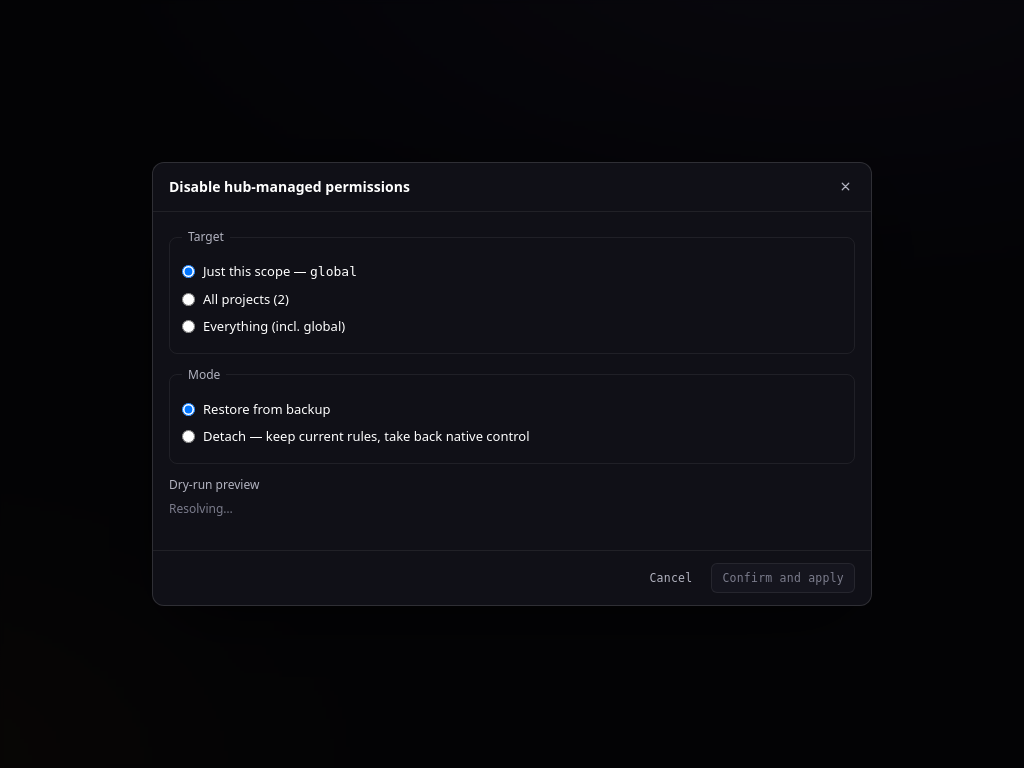
Test: DisableDialog › requires the strict checkbox when target = Everything
Step 1. Click the radio button labelled "Everything (incl. global)" → (188, 327), box [182,320,195,333]
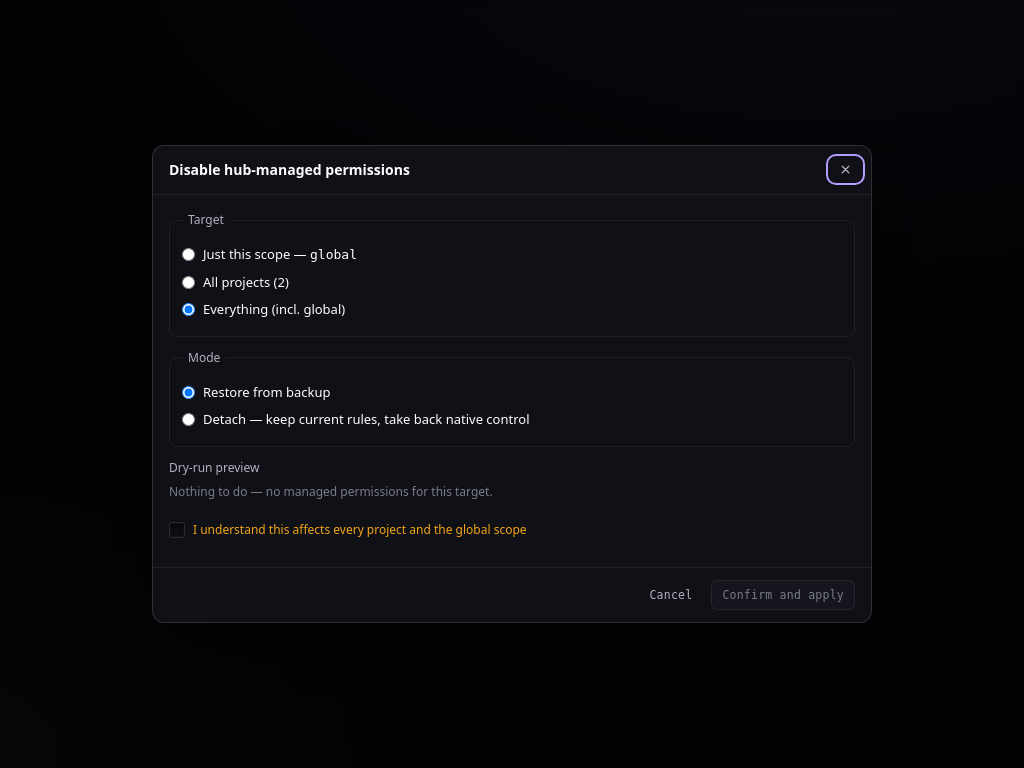
Result: the text "I understand this affects every project and the global scope" is shown at [193,521,527,538]
